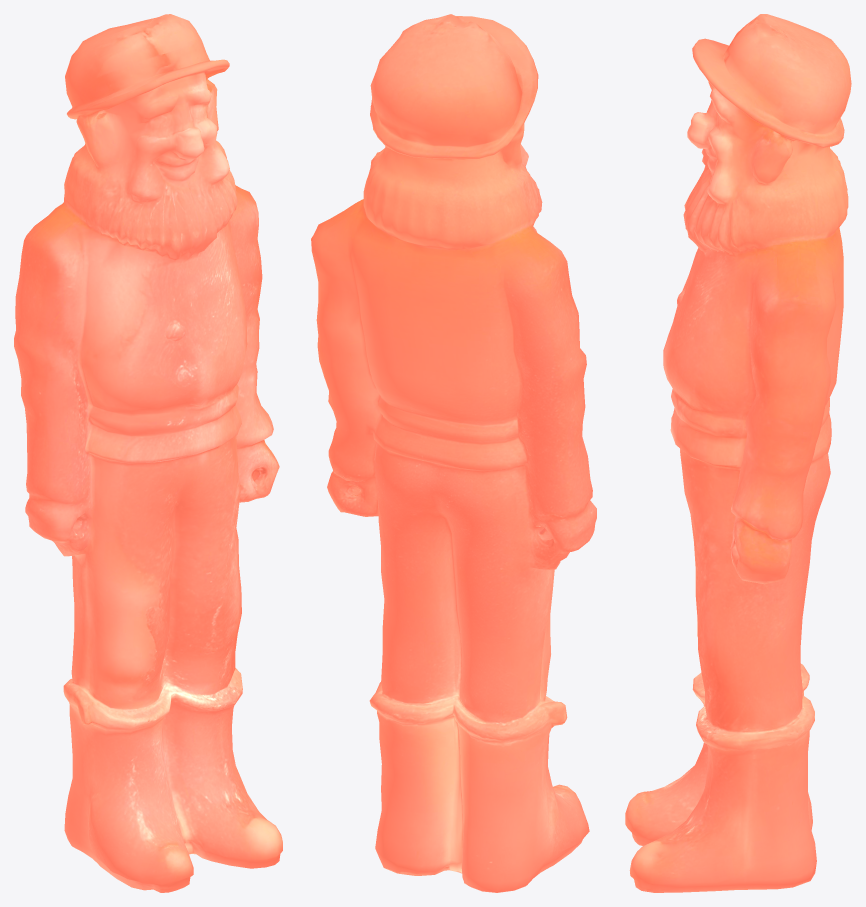
The model's file is gnome.glb.
The picture shows the model from 3 angles, left to right: view 1: azimuth 30°, elevation 25°; view 2: azimuth 150°, elevation 25°; view 3: azimuth 270°, elevation 25°; orthographic projection. The views are drawn at different scales.
Parts seen in each view (by area): view 1: 2.1.GNOME; view 2: 2.1.GNOME; view 3: 2.1.GNOME.
Part boxes in pixels (box(x1,y1,x2,y2)): 2.1.GNOME: box(14, 14, 282, 892); 2.1.GNOME: box(311, 14, 596, 892); 2.1.GNOME: box(625, 14, 851, 892).
Bounding box in the file's own units: 0.3753 × 1.2 × 0.2939.
1 material, 1 textured.
